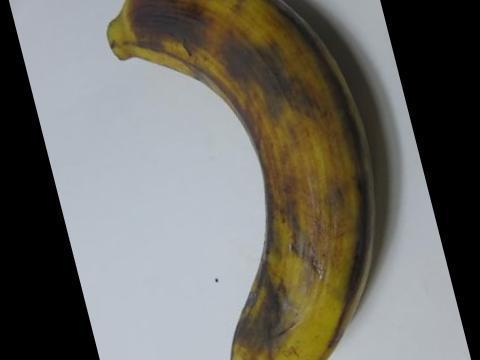overripe: (89, 0, 387, 359)
